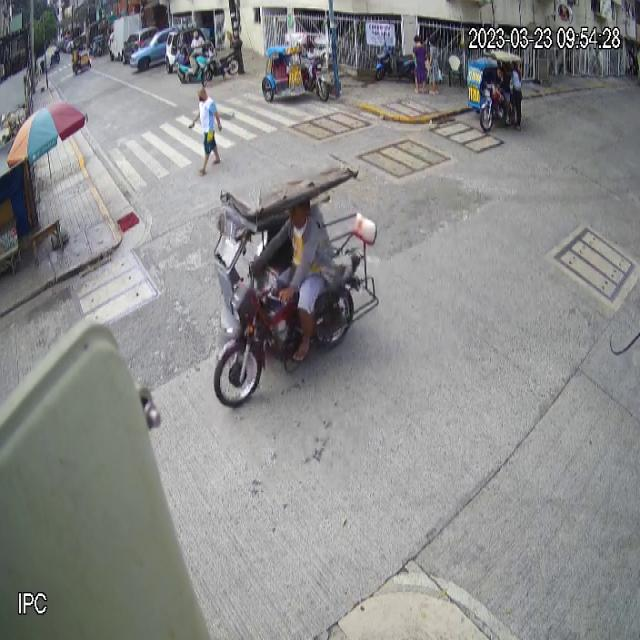Tricycle: (210, 156, 379, 412), (261, 32, 329, 104), (468, 49, 524, 132)
